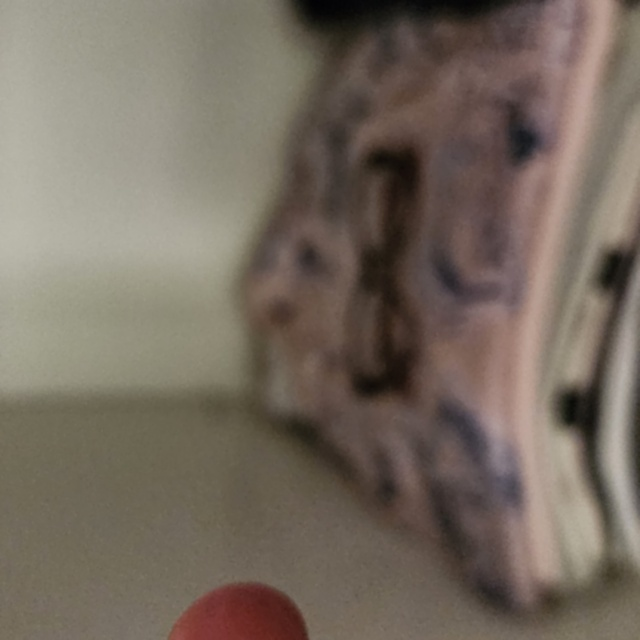glasses: (335, 130, 439, 410)
